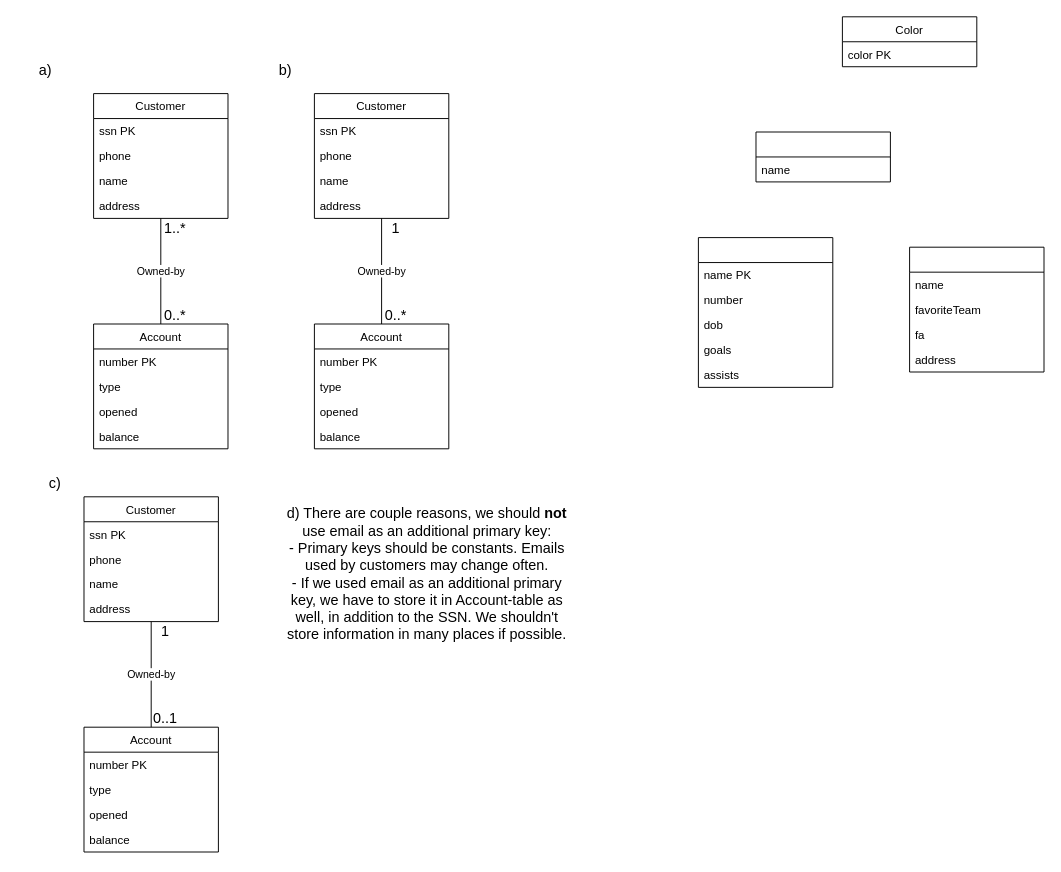
The diagram is 1061 pixels wide and 872 high, and some of its shapes have lost their labels. The box of each missing label's shape, as (x1, y1, x2, y2) in pixels:
Fan: (909, 246, 1044, 372)
Player: (697, 237, 833, 387)
Team: (755, 131, 890, 182)
